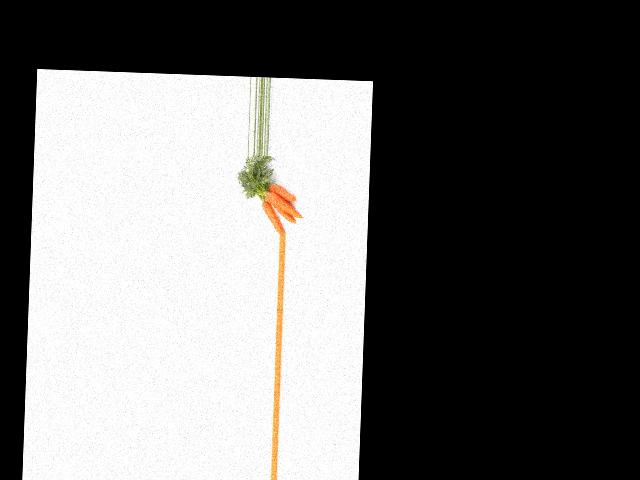carrot: (266, 182, 300, 203)
